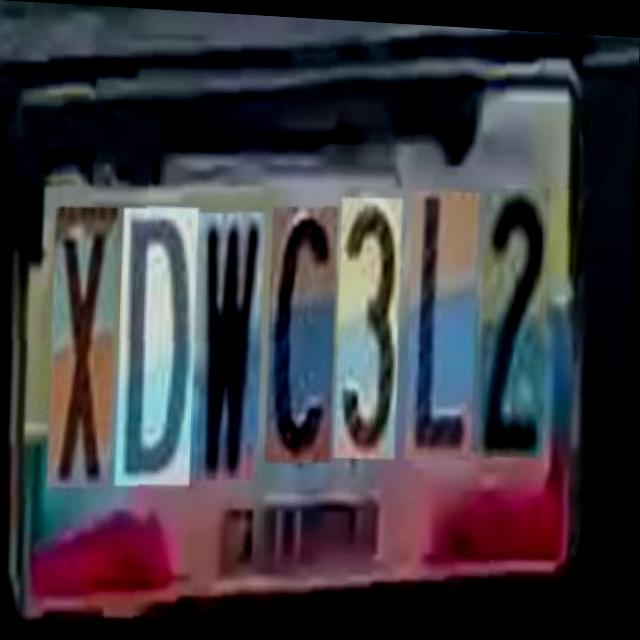2: (478, 181, 552, 456)
3: (335, 189, 403, 455)
c: (266, 197, 339, 458)
d: (117, 196, 199, 480)
l: (406, 184, 480, 458)
w: (191, 202, 267, 474)
x: (48, 195, 118, 482)
